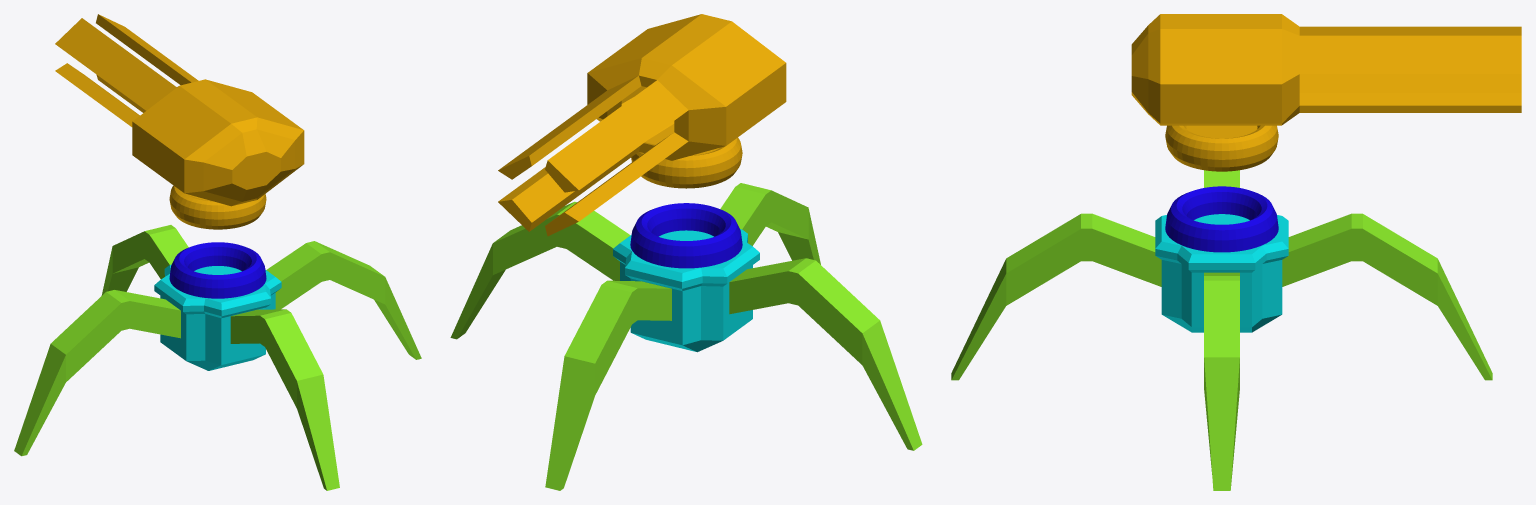
Rendered from spyder_turretDESTROYED.fbx.
3 views of the same model, side by side, from view 1: azimuth 30°, elevation 25°; view 2: azimuth 150°, elevation 25°; view 3: azimuth 270°, elevation 25° (orthographic). The views are drawn at different scales.
Visible parts, largest first — view 1: Turret, Body, LeftLeg, RearLeg, RightLeg, FrontLeg; view 2: Turret, Body, LeftLeg, FrontLeg, RightLeg, RearLeg; view 3: Turret, Body, RearLeg, FrontLeg, RightLeg.
Part boxes in pixels (left/top/right/bottom): Turret: left=55, top=14, right=304, bottom=229; Body: left=154, top=242, right=281, bottom=370; LeftLeg: left=14, top=290, right=180, bottom=456; RearLeg: left=230, top=309, right=339, bottom=490; RightLeg: left=266, top=241, right=421, bottom=359; FrontLeg: left=101, top=225, right=188, bottom=295; Turret: left=498, top=14, right=786, bottom=236; Body: left=613, top=203, right=759, bottom=352; LeftLeg: left=729, top=258, right=922, bottom=450; FrontLeg: left=545, top=280, right=671, bottom=490; RightLeg: left=450, top=201, right=630, bottom=339; RearLeg: left=720, top=183, right=820, bottom=264; Turret: left=1131, top=14, right=1521, bottom=171; Body: left=1155, top=186, right=1288, bottom=332; RearLeg: left=951, top=213, right=1161, bottom=380; FrontLeg: left=1282, top=213, right=1492, bottom=380; RightLeg: left=1204, top=272, right=1239, bottom=490.
Size of the model in its own units: 1251 by 1319 by 907.
